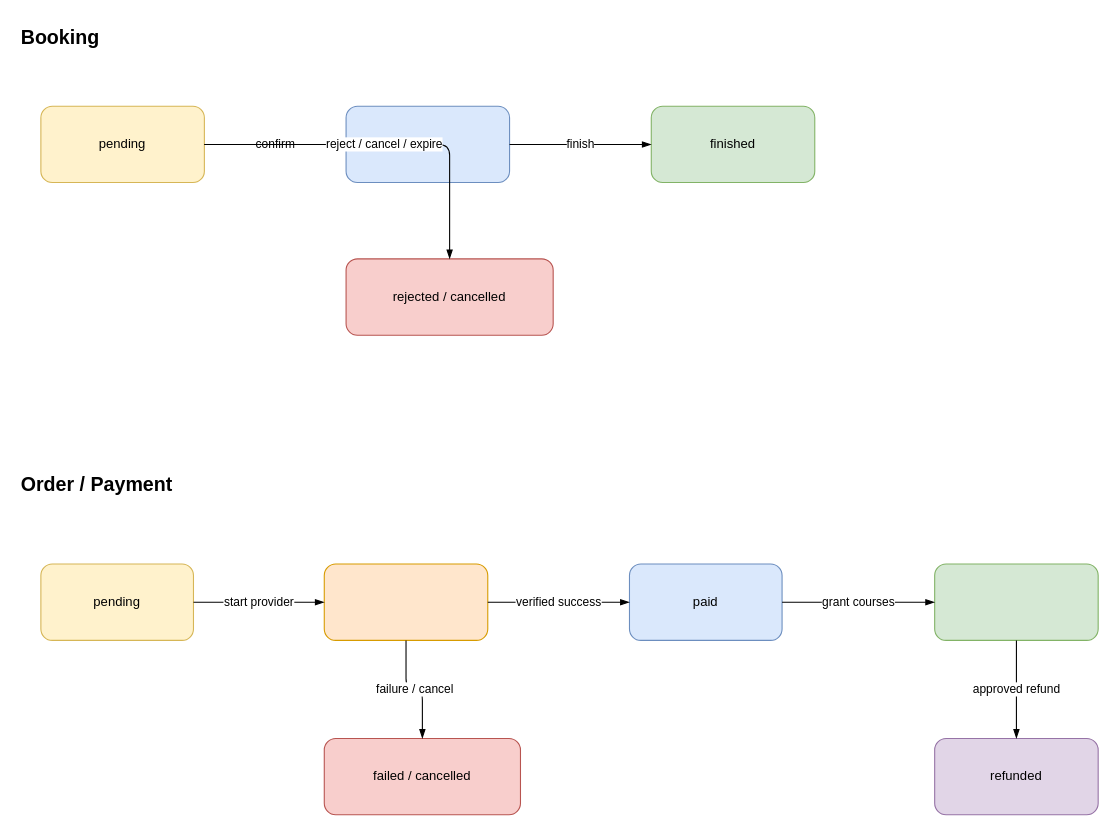
This 1117x834 diagram has some shape labels left out. The shapes that lost their labels are listed below. From the top down, each one's centre as x and y in pixels, then its label:
the point at 427,144: active
the point at 405,601: processing
the point at 1016,601: completed
